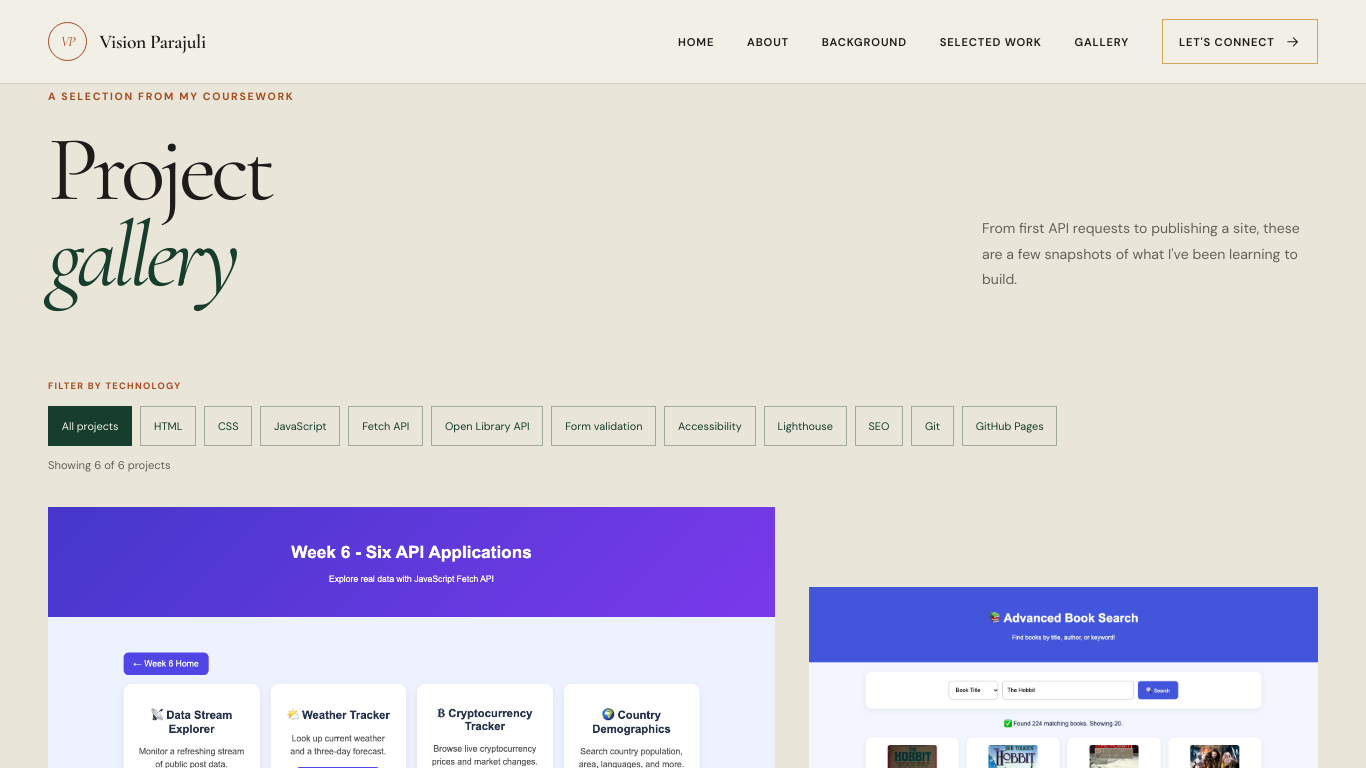
it: filters projects by technology and restores all projects
(page scrolled)
Step 1. Click the button "Fetch API" → (386, 426), box [348,406,423,446]
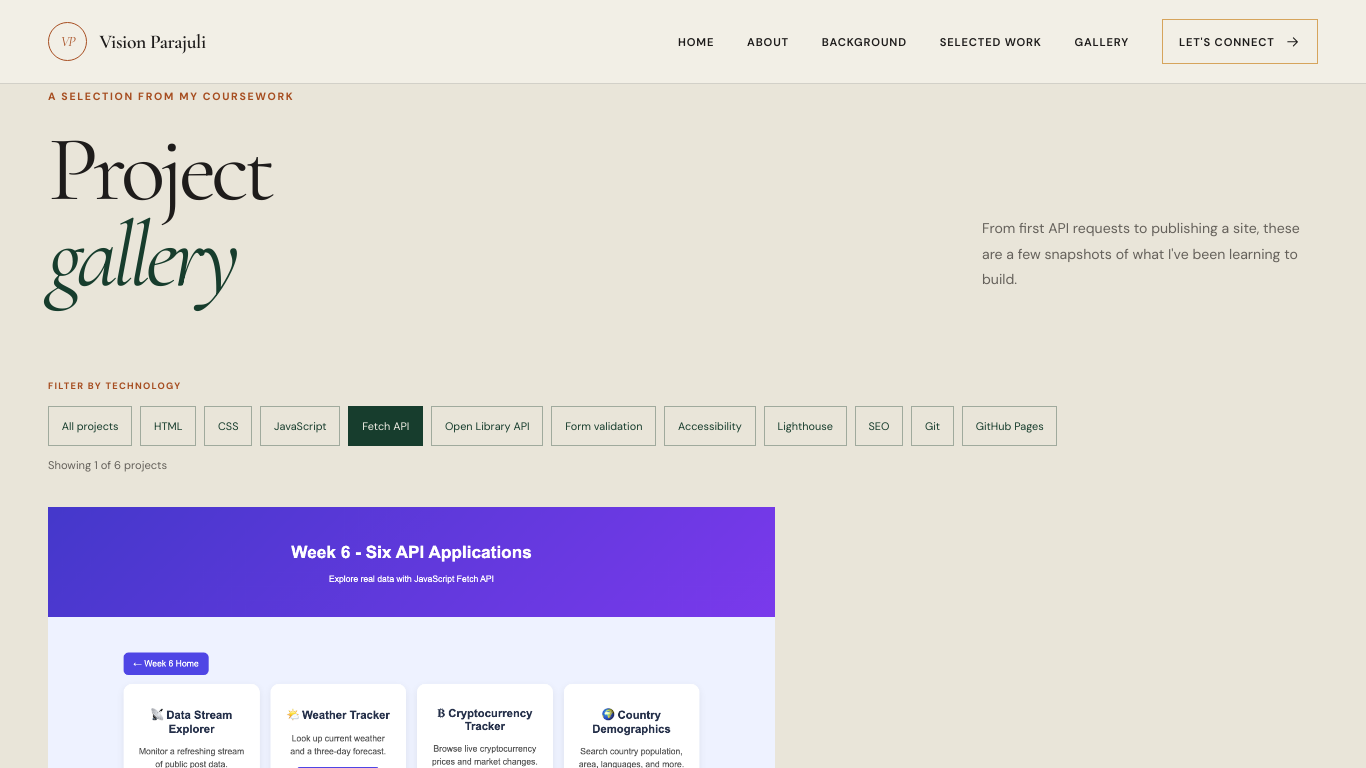
Expected: the text "Showing 1 of 6 projects" is shown, [48,458,167,472]
Step 2. Click the button "All projects" → (90, 426), box [48,406,132,446]
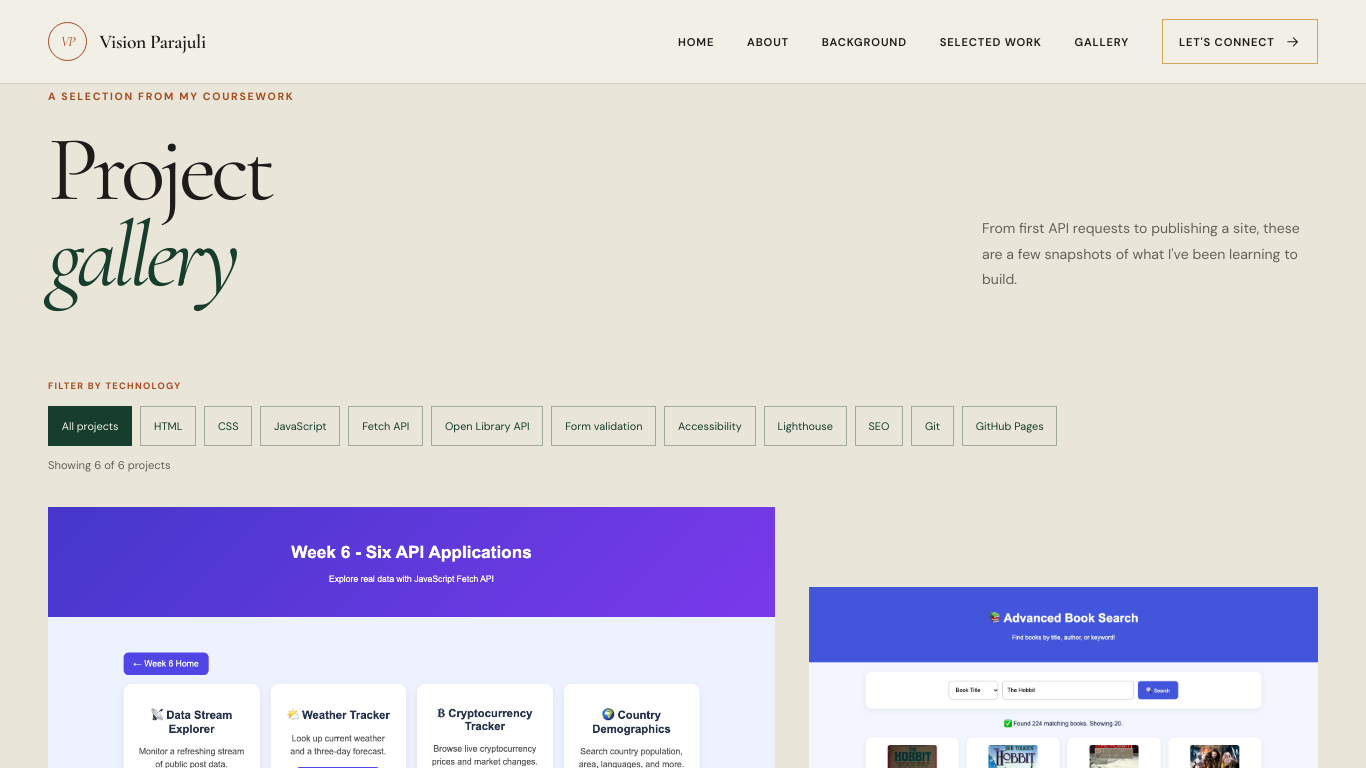
Expected: the text "Showing 6 of 6 projects" is shown, [48,458,170,472]
